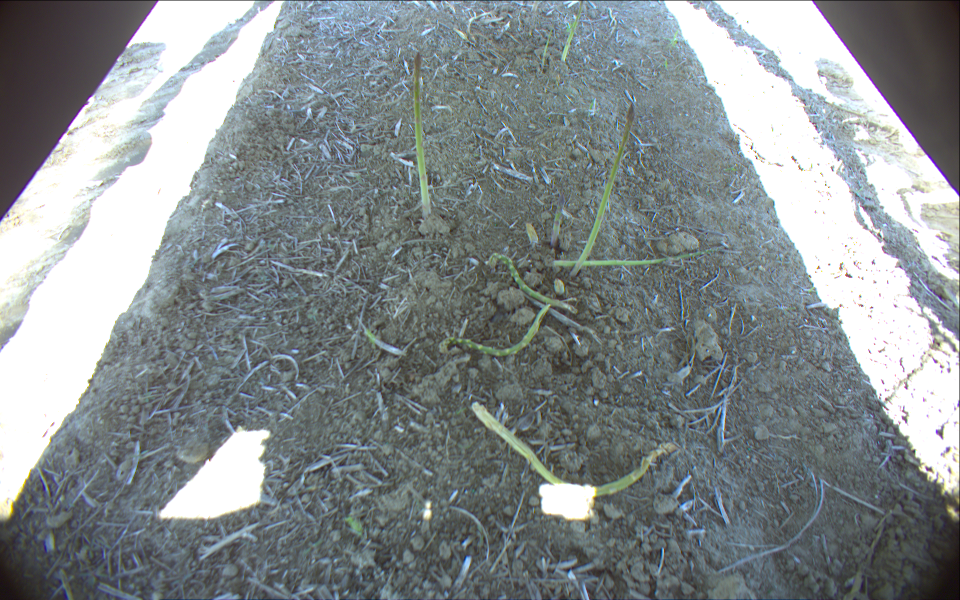aspa: (566, 102, 635, 279), (411, 50, 438, 219), (557, 1, 583, 60)
